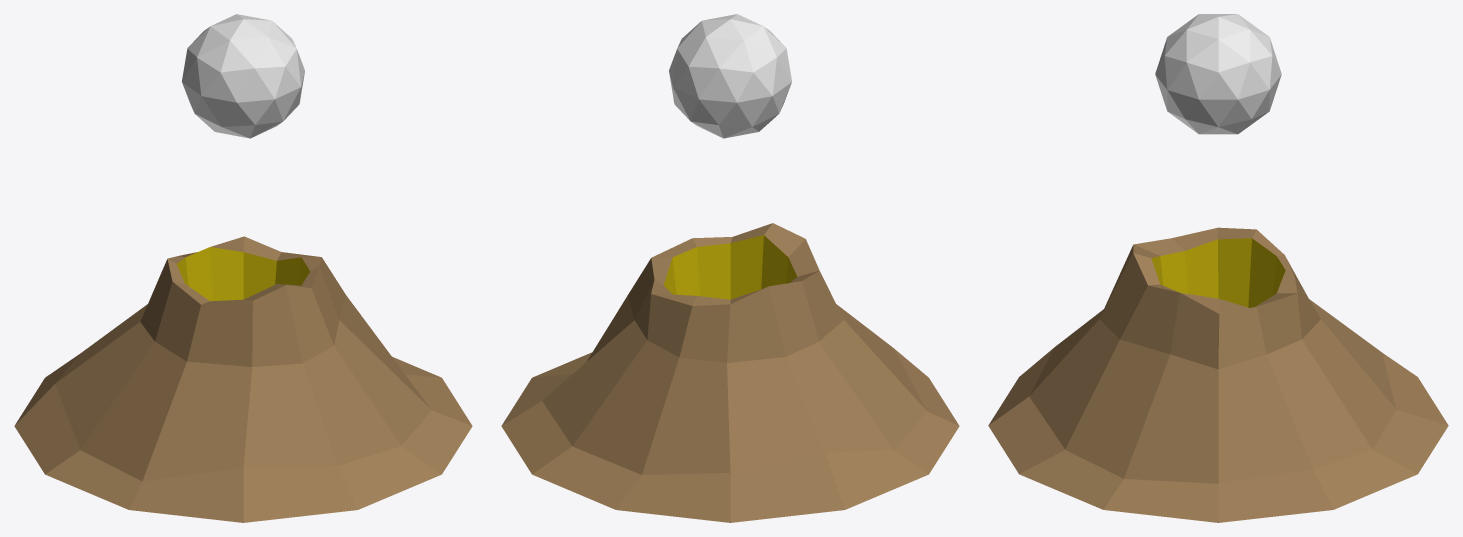
Rendered from magma_g.fbx.
The picture shows the model from 3 angles, left to right: view 1: azimuth 30°, elevation 25°; view 2: azimuth 150°, elevation 25°; view 3: azimuth 270°, elevation 25°; orthographic projection.
Parts seen in each view (by area): view 1: Cylinder, magma_ball; view 2: Cylinder, magma_ball; view 3: Cylinder, magma_ball.
Part boxes in pixels (left/top/right/bottom): Cylinder: left=14, top=236, right=472, bottom=522; magma_ball: left=182, top=14, right=304, bottom=138; Cylinder: left=501, top=223, right=959, bottom=522; magma_ball: left=669, top=14, right=791, bottom=138; Cylinder: left=988, top=227, right=1448, bottom=522; magma_ball: left=1155, top=14, right=1281, bottom=134.
Bounding box in the file's own units: 437 × 428 × 437.
